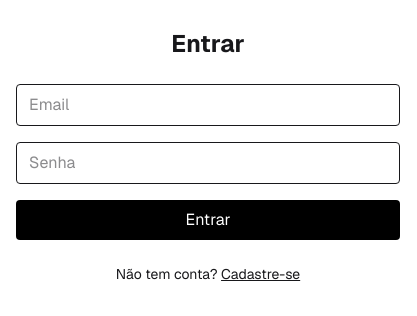
Test: Login › [TC-005] deve exibir erro com senha incorreta
This screenshot has width=417, height=316.
Type "teste1@email.com" into the field named "email" at (208, 105), box [16,84,400,126]
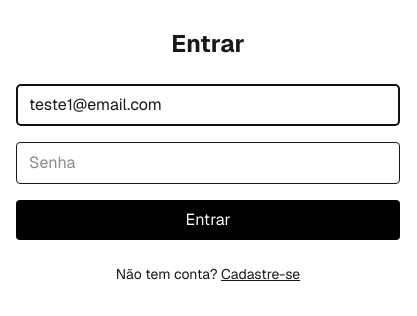
Type "senhaerrada123" into the password field named "password" at (208, 163), box [16,142,400,184]
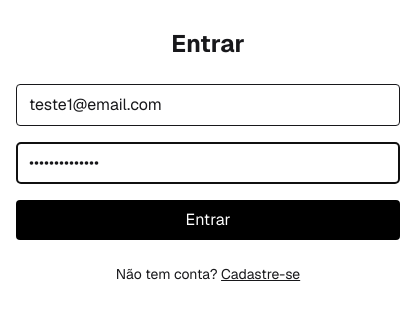
Click the submit button at (208, 220), box [16,200,400,240]
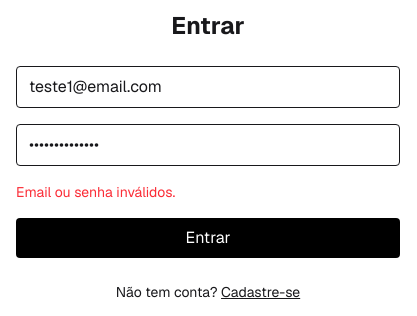
Expected: the text "Email ou senha inválidos." is shown, [16,183,175,201]
